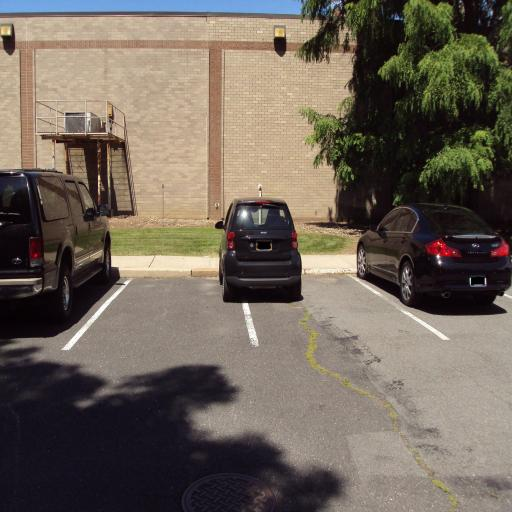Illegal-parking: (198, 167, 328, 341)
Slot-occupied: (345, 166, 512, 324)
